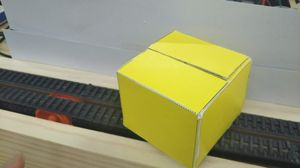box4: (115, 29, 252, 168)
